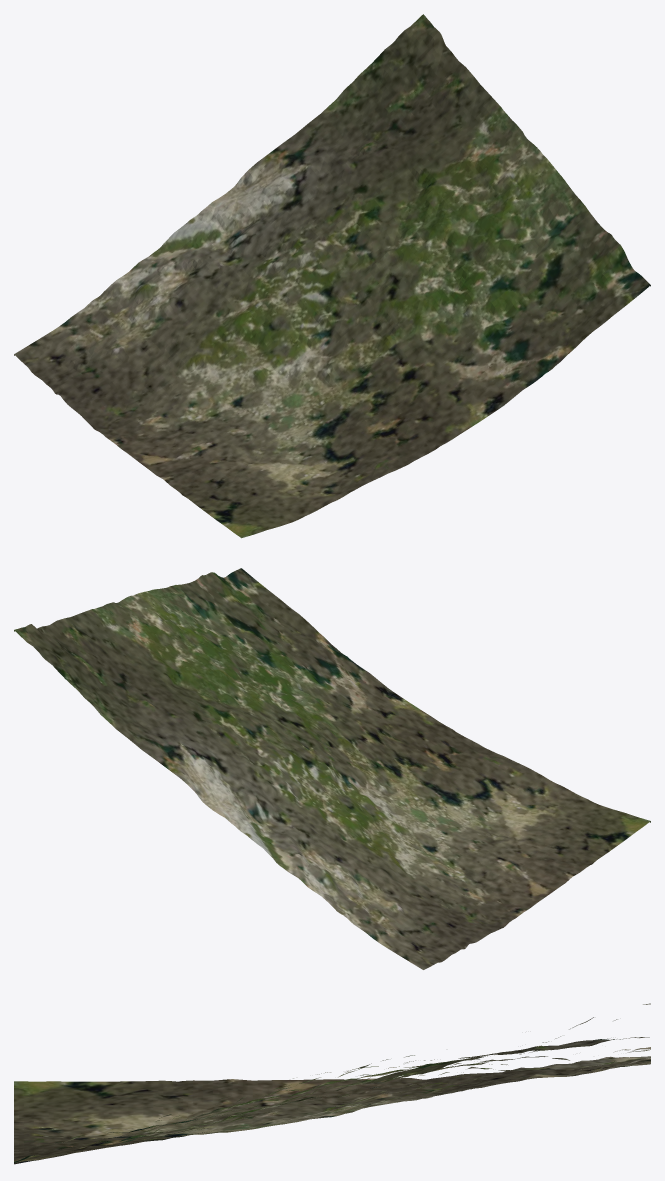
3 renders of one model, top to bottom at view 1: azimuth 30°, elevation 25°; view 2: azimuth 150°, elevation 25°; view 3: azimuth 270°, elevation 25°, orthographic. The views are drawn at different scales.
Bounding box in the file's own units: 250 × 152 × 241.
Materials: 1 (1 with a texture image).
